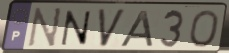3: (158, 8, 186, 49)
A: (118, 9, 156, 49)
N: (25, 6, 65, 50), (60, 9, 93, 47)
O: (187, 9, 221, 50)
V: (96, 8, 128, 50)
